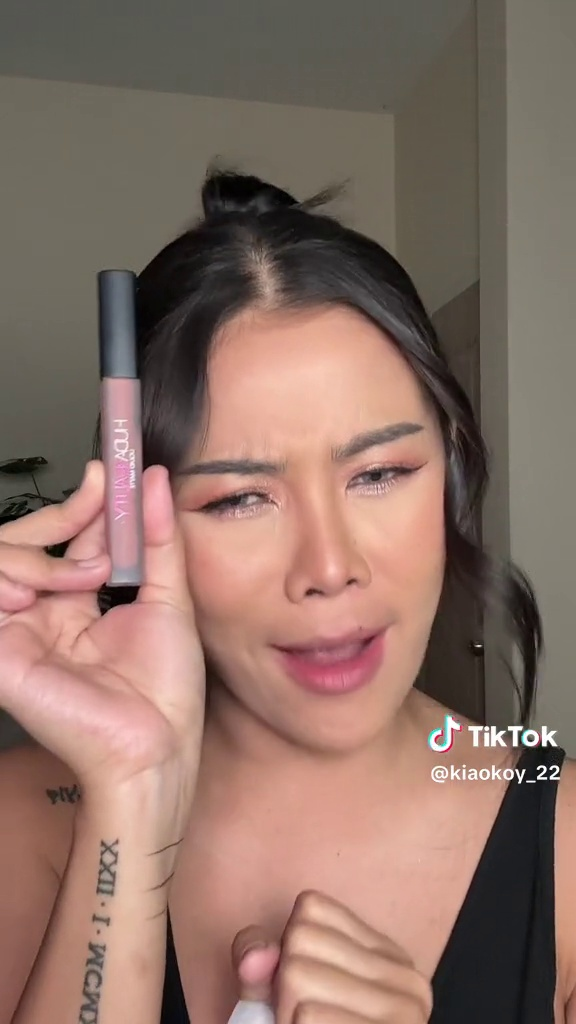train' :'yolo_data/train/images',: (91, 261, 157, 589)
